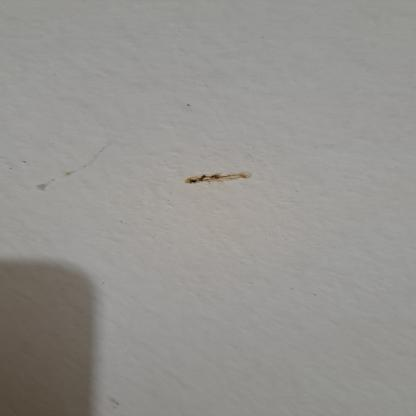spot: (23, 133, 126, 194), (173, 166, 268, 196)
